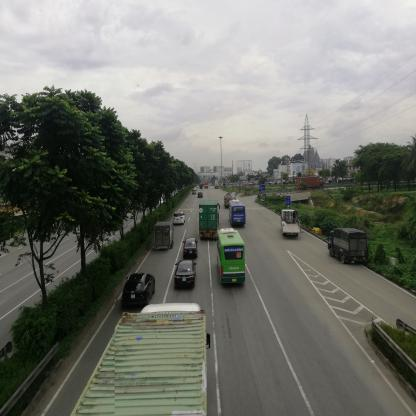bus: (218, 231, 246, 287), (230, 204, 245, 227)
car: (124, 275, 157, 306), (178, 261, 196, 287), (185, 237, 196, 255), (175, 215, 185, 225)
container: (116, 301, 209, 416), (200, 203, 219, 238), (297, 177, 325, 192)
truck: (329, 228, 369, 265), (155, 223, 175, 250), (283, 212, 301, 235)
